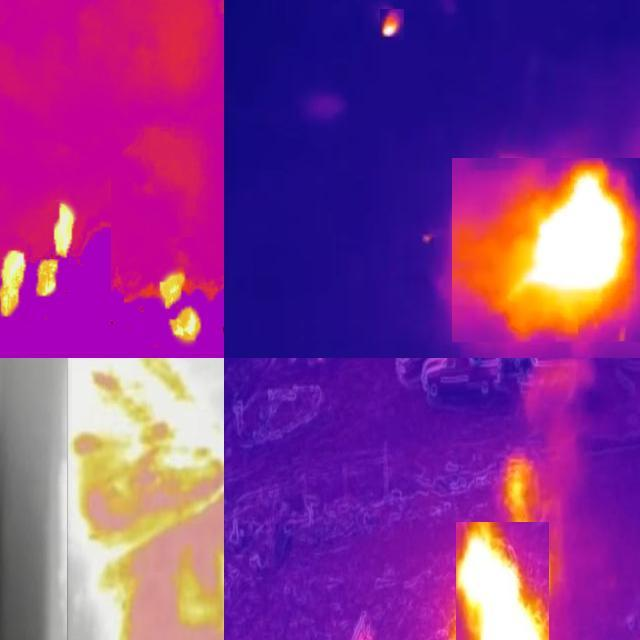fire: (67, 359, 225, 640), (452, 158, 640, 342), (456, 522, 549, 640), (1, 198, 87, 317), (152, 265, 213, 352), (380, 9, 404, 41)
